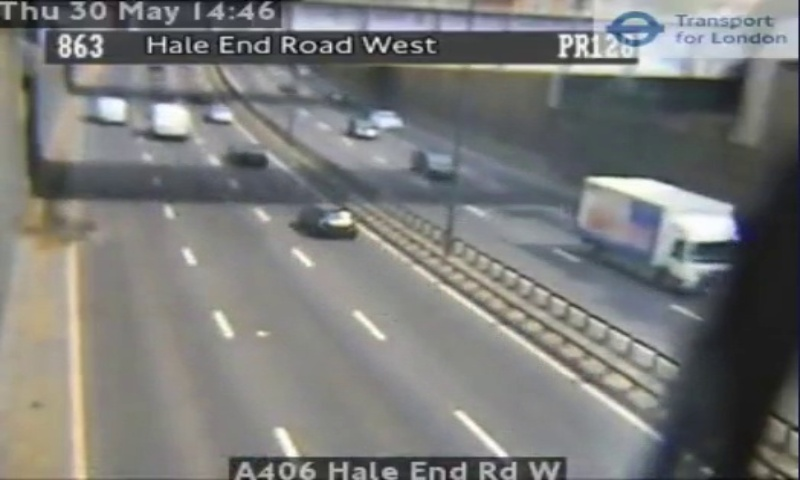car: (297, 203, 357, 237)
van: (149, 103, 187, 138)
